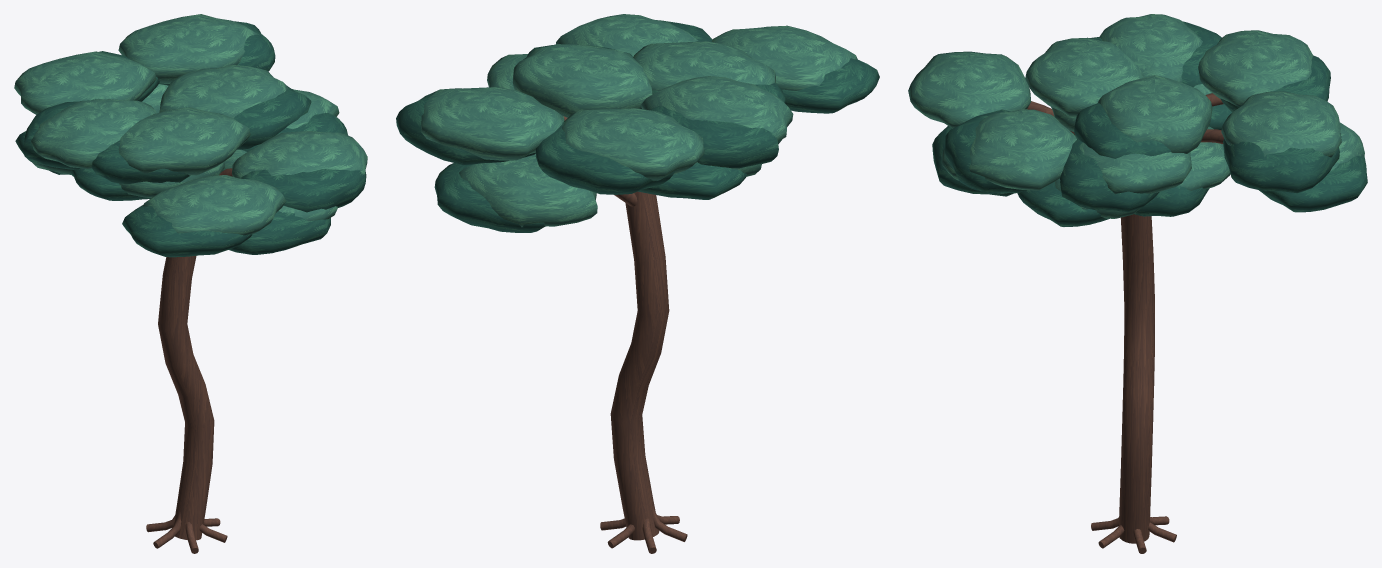
Rendered from tree_1.glb.
3 views of the same model, side by side, from view 1: azimuth 30°, elevation 25°; view 2: azimuth 150°, elevation 25°; view 3: azimuth 270°, elevation 25° (orthographic). The views are drawn at different scales.
Parts seen in each view (by area): view 1: tree_1; view 2: tree_1; view 3: tree_1.
Part boxes in pixels (x1,y1,x2,y2): tree_1: (14, 14, 367, 553); tree_1: (396, 14, 879, 553); tree_1: (908, 14, 1367, 553).
Bounding box in the file's own units: 5.12 × 7.29 × 6.49.
1 material, 1 textured.
